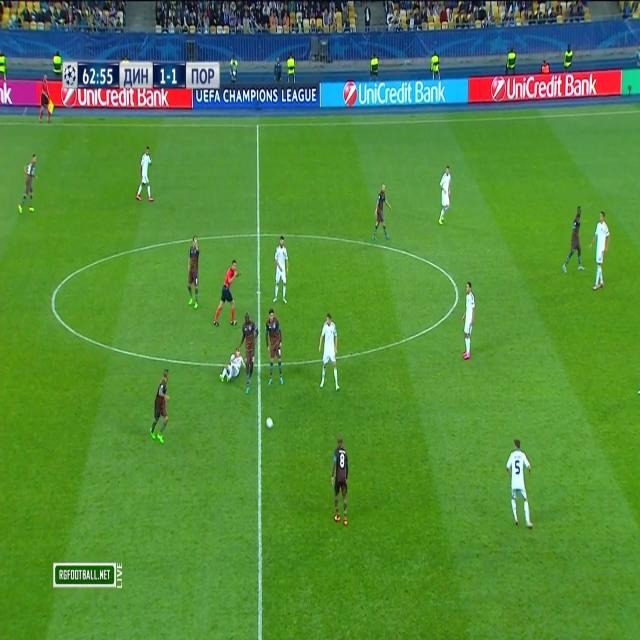Ball: (264, 413, 277, 433)
Player: (505, 435, 537, 534), (146, 368, 173, 448), (558, 203, 588, 275), (329, 435, 352, 526), (316, 312, 340, 395), (238, 309, 260, 397), (265, 308, 287, 394), (459, 277, 478, 365), (591, 208, 610, 295), (17, 149, 39, 217), (370, 182, 394, 244), (134, 143, 156, 209), (270, 237, 290, 305), (187, 233, 202, 316), (216, 345, 244, 387), (438, 162, 452, 228)
Referee: (213, 257, 242, 335), (36, 74, 52, 125)
